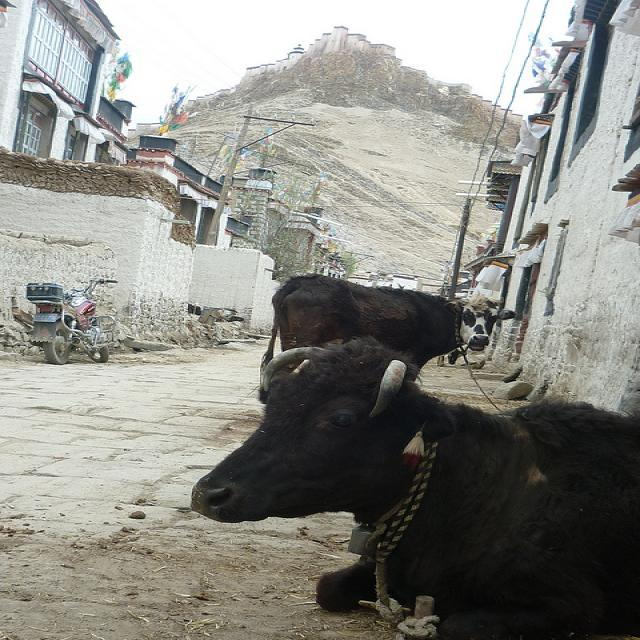motor: (32, 302, 114, 365)
